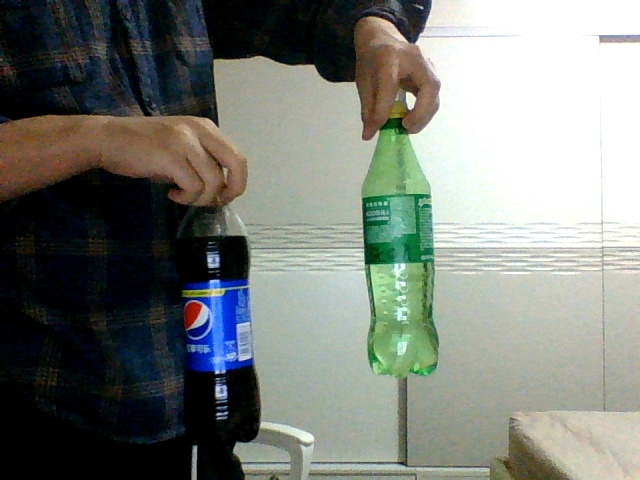Cola: (178, 193, 261, 443)
Sprite: (360, 99, 440, 374)
